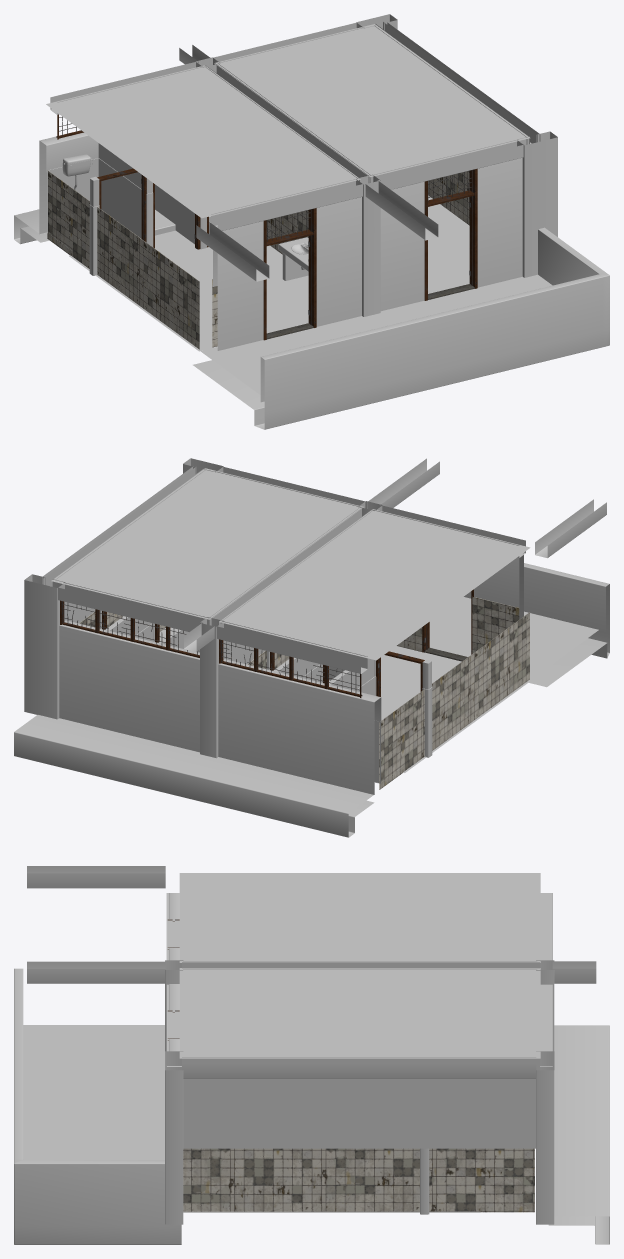
Rendered from toilet_prefab.FBX.
3 views of the same model, one above another, from view 1: azimuth 30°, elevation 25°; view 2: azimuth 150°, elevation 25°; view 3: azimuth 270°, elevation 25° (orthographic). The views are drawn at different scales.
Visible parts, largest first — view 1: 333_corridor_wall003, 333_ceiling_010, toilet_2, 333_ceiling_011, toiletdoorwall001, toiletdoorwall, 333_pillar_014, 333_corridor_floor001, 333_pillar_016, toilet_1, 333_pillar_top_021, 333_pillar_top_023 (+10 smaller); view 2: 333_ceiling_010, 333_ceiling_011, 333_corridor_wall003, toilet_2, toiletwall001, toiletwall, 333_pillar_014, 333_pillar_016, 333_corridor_floor001, 333_pillar_top_020, 333_pillar_top_022, 333_wall_blackboard004 (+9 smaller); view 3: 333_ceiling_010, 333_ceiling_011, 333_wall_blackboard006, toilet_1, 333_corridor_floor001, 333_corridor_wall003, 333_corridor_wall_end001, 333_pillar_014, 333_pillar_016, 333_pillar_015, 333_wall_blackboard004, 333_pillar_top_022 (+3 smaller).
Part boxes in pixels (x1,y1,x2,y2): 333_corridor_wall003: (14,209,602,429); 333_ceiling_010: (214,24,530,177); toilet_2: (47,143,308,351); 333_ceiling_011: (46,65,360,218); toiletdoorwall001: (213,197,361,350); toiletdoorwall: (380,158,522,311); 333_pillar_014: (179,45,438,316); 333_corridor_floor001: (201,274,552,394); 333_pillar_016: (356,14,557,277); toilet_1: (428,171,469,293); 333_pillar_top_021: (211,178,365,230); 333_pillar_top_023: (371,139,525,189); 333_ceiling_010: (51,468,363,619); 333_ceiling_011: (219,509,530,660); 333_corridor_wall003: (14,563,609,837); toilet_2: (247,597,533,789); toiletwall001: (218,659,381,794); toiletwall: (59,620,199,752); 333_pillar_014: (184,458,606,758); 333_pillar_016: (24,458,223,719); 333_corridor_floor001: (429,597,598,678); 333_pillar_top_020: (215,621,367,673); 333_pillar_top_022: (57,582,209,631); 333_wall_blackboard004: (209,508,371,664); 333_ceiling_010: (179,968,540,1058); 333_ceiling_011: (179,873,540,962); 333_wall_blackboard006: (182,1058,539,1148); toilet_1: (183,1148,534,1214); 333_corridor_floor001: (23,1025,164,1159); 333_corridor_wall003: (14,968,609,1244); 333_corridor_wall_end001: (14,1159,181,1244); 333_pillar_014: (27,866,596,1051); 333_pillar_016: (165,1051,554,1224); 333_pillar_015: (182,1057,536,1078); 333_wall_blackboard004: (182,962,539,968); 333_pillar_top_022: (540,984,552,1066).
Size of the model in its own units: 882 by 366 by 1083.
